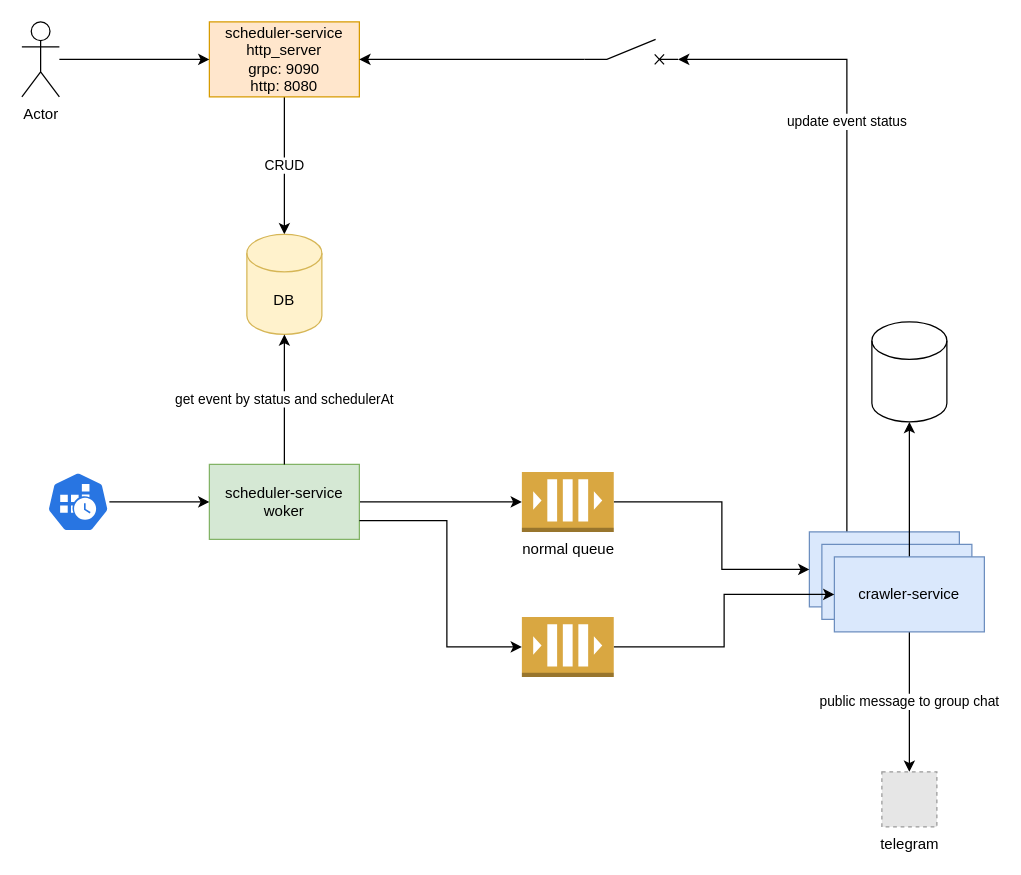
Image size: 1021x875. Some labels were removed from this diagram. Grey dashed boxes stand in for pictures. The box of each missing label's shape, as (x1, y1, x2, y2) in pixels:
Circuit breaker: (583, 38, 678, 64)
cronjob */1 * * * *: (46, 471, 109, 532)
priority queue: (521, 616, 614, 677)
result DB: (871, 321, 947, 422)
